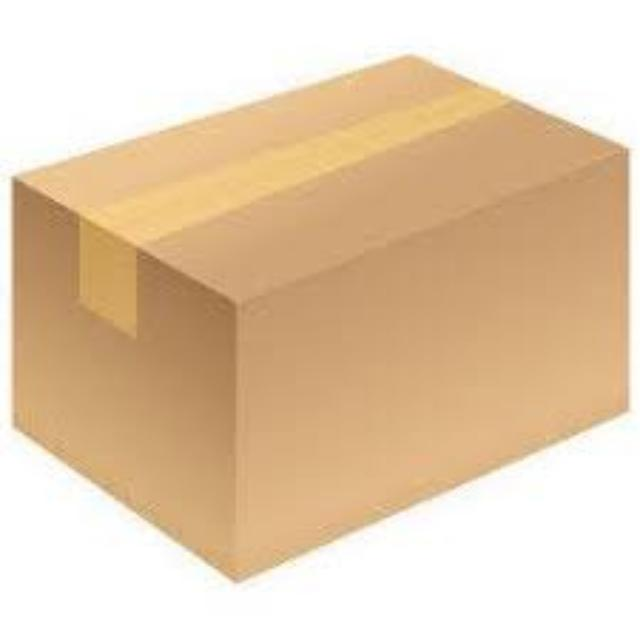cardboard paper: (11, 54, 623, 572)
